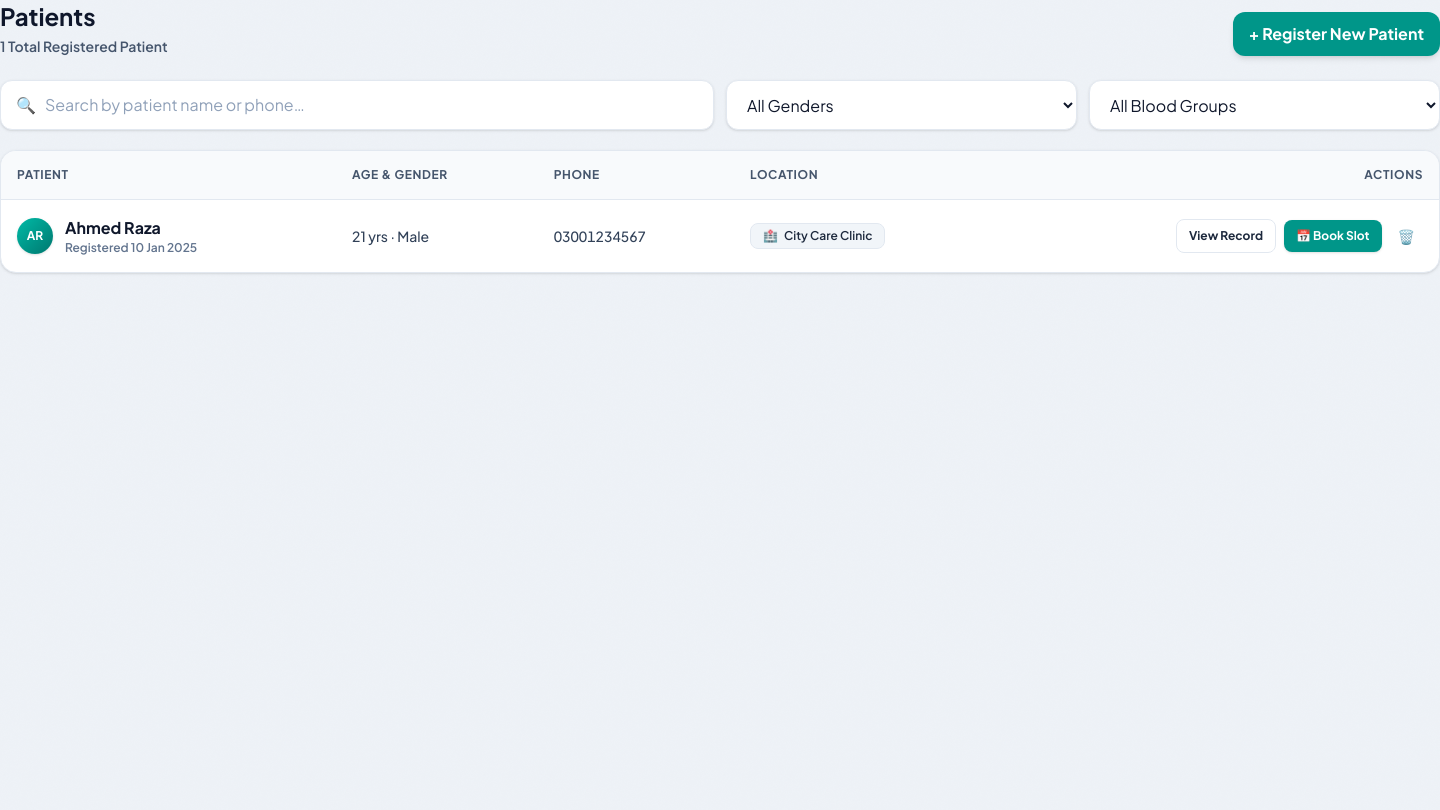
Test case: PatientsPage directory › opens the booking modal with the upfront fee form from a row action
Step 1. Click the button "📅 Book Slot" → (1333, 236), box top-left (1284, 220), bottom-right (1382, 252)
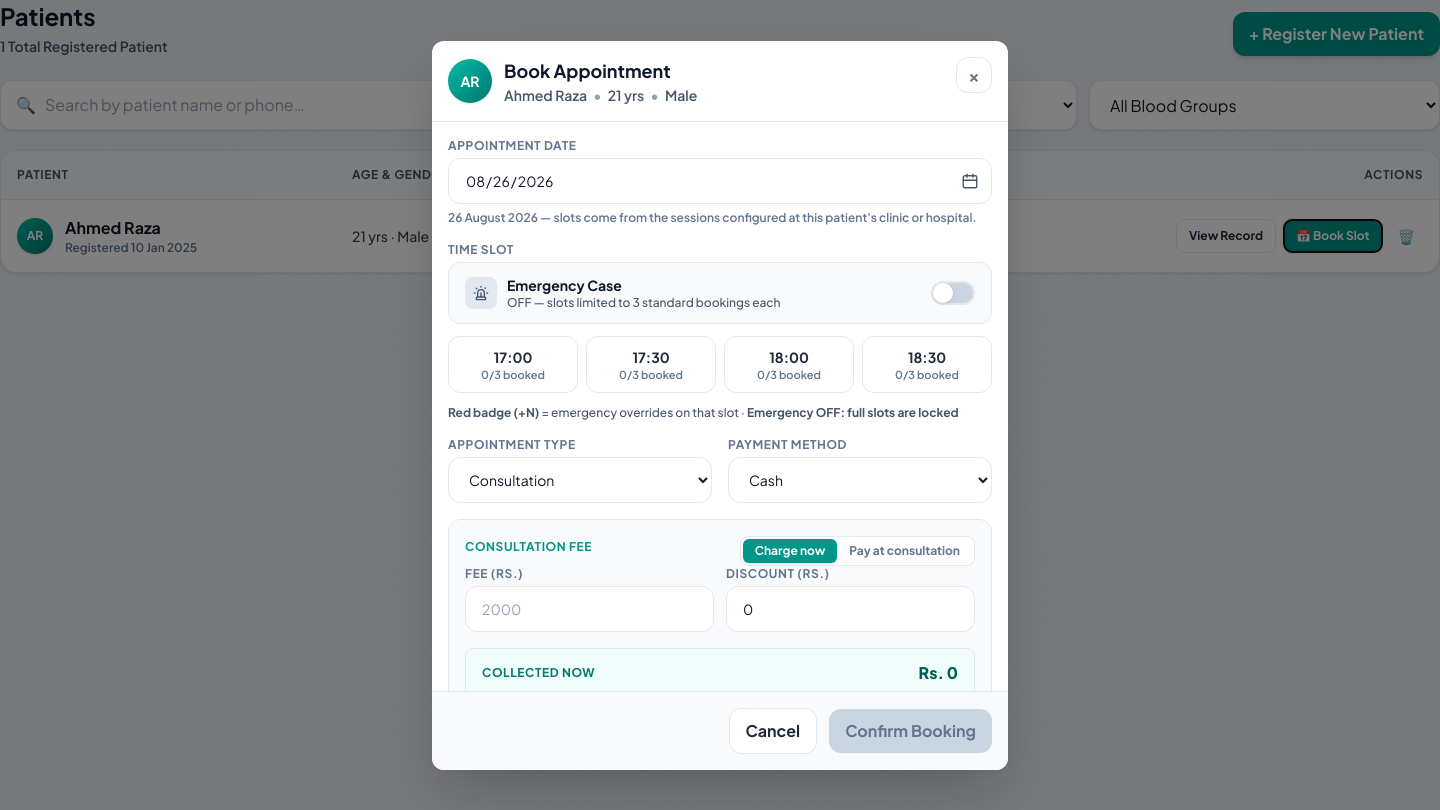
Result: the dialog named "Book appointment for Ahmed Raza" is shown at top-left (432, 40), bottom-right (1008, 770)
Result: the number field labelled "Fee (Rs.)" is shown at top-left (465, 586), bottom-right (714, 632)
Result: the number field labelled "Discount (Rs.)" is shown at top-left (726, 586), bottom-right (975, 632)
